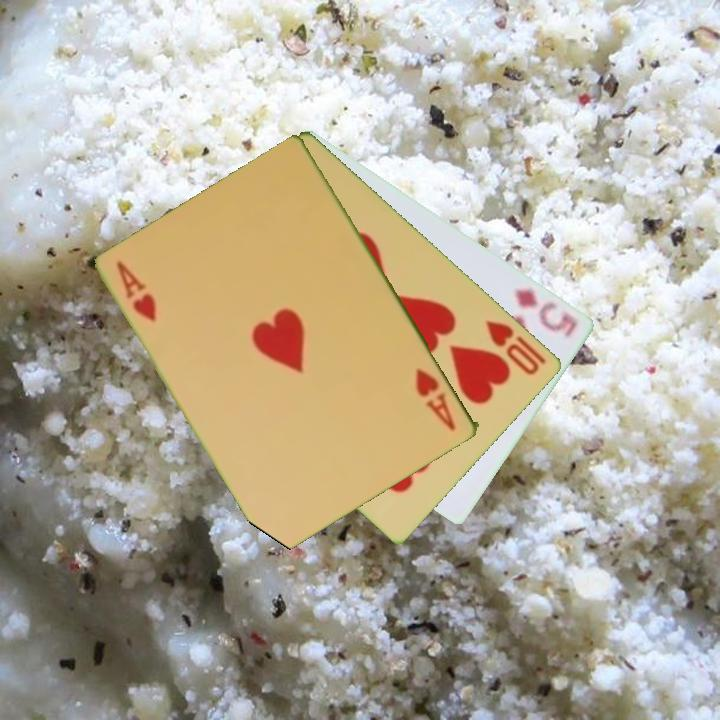10h: (482, 316, 543, 379)
5d: (511, 284, 581, 341)
Ah: (412, 364, 459, 434), (113, 257, 160, 325)
